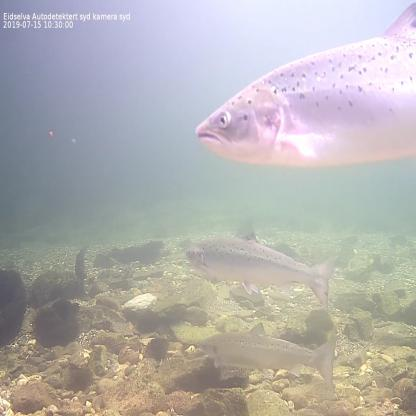salmon: (193, 0, 416, 172), (178, 227, 335, 309), (195, 316, 337, 387)
